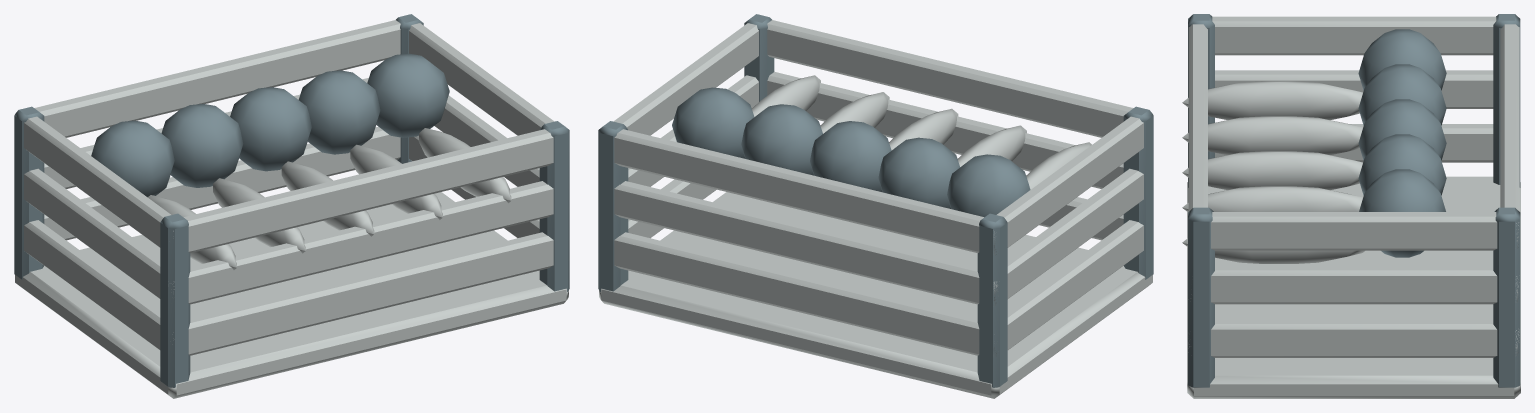
File: vegetable-crate.glb
3 renders of one model, left to right at view 1: azimuth 30°, elevation 25°; view 2: azimuth 150°, elevation 25°; view 3: azimuth 270°, elevation 25°, orthographic. The views are drawn at different scales.
Visible parts, largest first — view 1: crate_floor, side_slat.005, side_slat.001, side_slat.003, side_slat.004, end_slat.004, end_slat.002, end_slat, cabbage.004, cabbage.003, cabbage.001, cabbage.002 (+14 smaller); view 2: crate_floor, side_slat.004, side_slat.002, side_slat, side_slat.005, end_slat.004, end_slat.002, end_slat, side_slat.003, end_slat.005, corner_post, cabbage.004 (+15 smaller); view 3: crate_floor, end_slat.003, end_slat.005, end_slat.001, end_slat.004, carrot.001, carrot.002, carrot, corner_post.002, corner_post.003, end_slat.002, side_slat.004 (+11 smaller).
Boxes of the visible parts, <box> form: crate_floor: <box>15,192,568,398</box>; side_slat.005: <box>173,129,553,253</box>; side_slat.001: <box>188,232,553,355</box>; side_slat.003: <box>174,181,553,304</box>; side_slat.004: <box>34,20,400,137</box>; end_slat.004: <box>24,116,170,247</box>; end_slat.002: <box>24,168,160,298</box>; end_slat: <box>24,220,160,349</box>; cabbage.004: <box>367,53,449,137</box>; cabbage.003: <box>298,70,380,154</box>; cabbage.001: <box>161,104,243,187</box>; cabbage.002: <box>230,87,311,171</box>; crate_floor: <box>599,192,1152,398</box>; side_slat.004: <box>614,129,996,255</box>; side_slat.002: <box>614,181,998,306</box>; side_slat: <box>614,232,998,355</box>; side_slat.005: <box>767,20,1133,137</box>; end_slat.004: <box>997,116,1143,247</box>; end_slat.002: <box>1007,168,1143,298</box>; end_slat: <box>1007,220,1143,349</box>; side_slat.003: <box>767,71,1123,188</box>; end_slat.005: <box>613,23,758,135</box>; corner_post: <box>977,213,1007,387</box>; cabbage.004: <box>672,87,754,158</box>; crate_floor: <box>1187,176,1520,398</box>; end_slat.003: <box>1211,265,1497,304</box>; end_slat.005: <box>1211,212,1497,250</box>; end_slat.001: <box>1211,319,1497,357</box>; end_slat.004: <box>1212,16,1496,55</box>; carrot.001: <box>1182,116,1362,155</box>; carrot.002: <box>1182,151,1362,190</box>; carrot: <box>1182,81,1362,120</box>; corner_post.002: <box>1493,207,1520,387</box>; corner_post.003: <box>1188,207,1214,387</box>; end_slat.002: <box>1215,70,1493,108</box>; side_slat.004: <box>1500,24,1519,247</box>.
Bounding box in the file's own units: 0.451 × 0.201 × 0.315.
